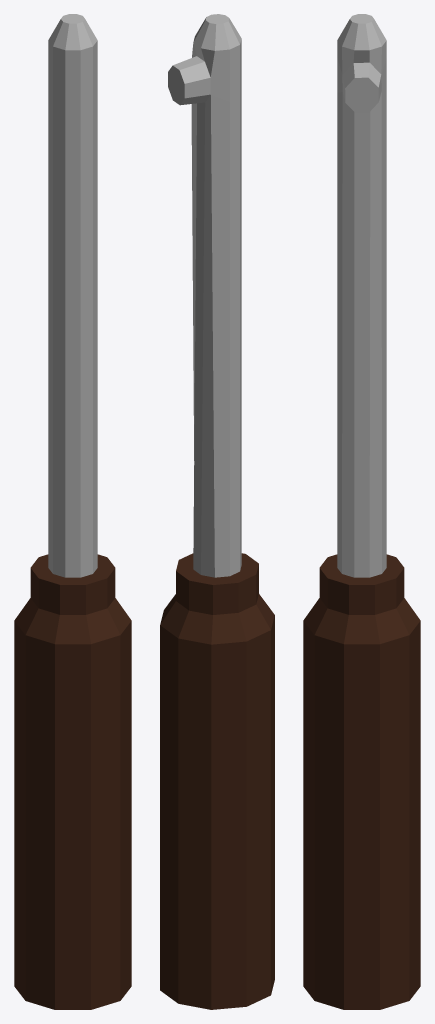
File: otmychka.fbx
3 views of the same model, side by side, from view 1: azimuth 90°, elevation 25°; view 2: azimuth 210°, elevation 25°; view 3: azimuth 270°, elevation 25° (orthographic).
Visible parts, largest first — view 1: Cylinder; view 2: Cylinder; view 3: Cylinder.
Boxes of the visible parts, <box> form: Cylinder: <box>14,14,131,1009</box>; Cylinder: <box>160,14,274,1009</box>; Cylinder: <box>303,14,420,1009</box>.
Bounding box in the file's own units: 32.84 × 314 × 34.53.
